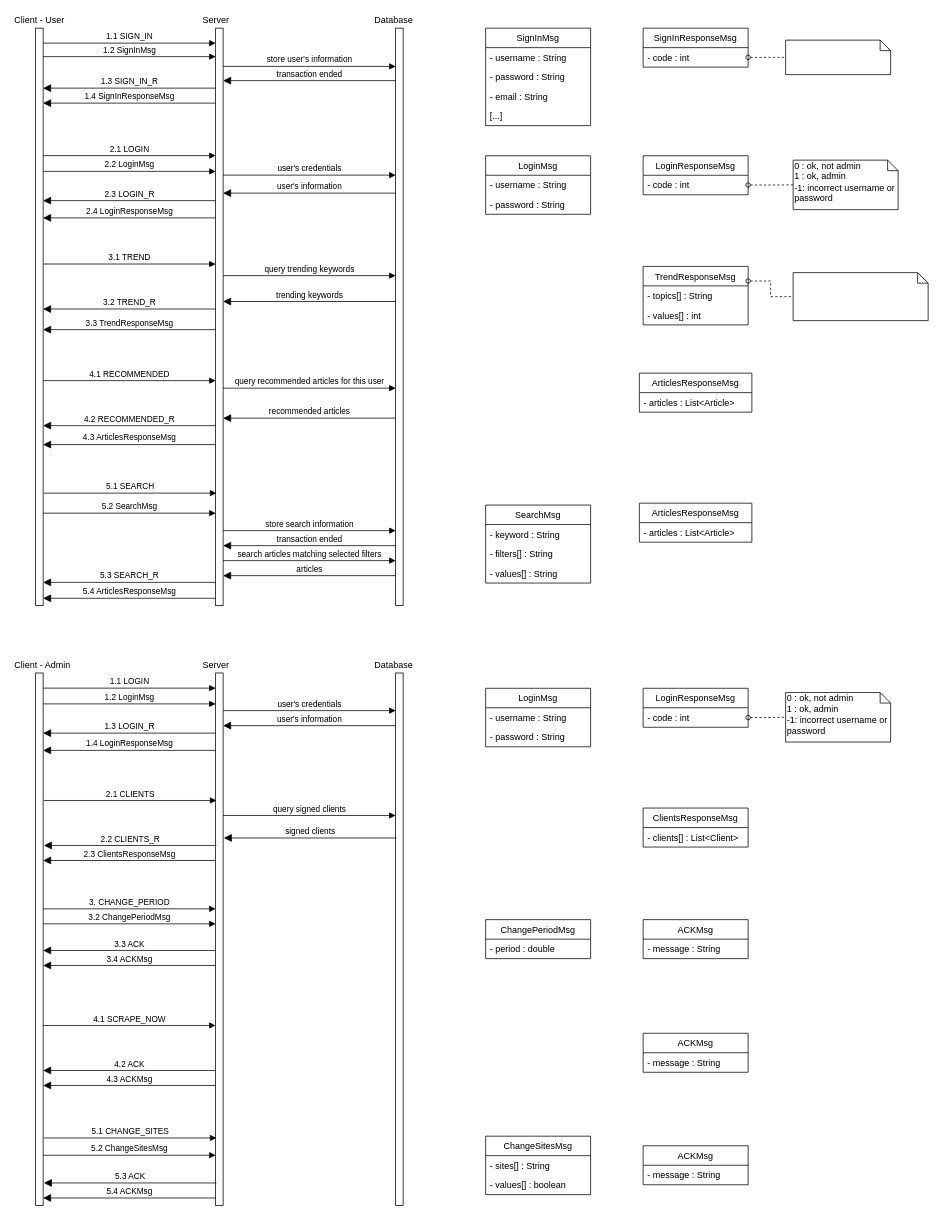
The diagram is 941 pixels wide and 1219 high, and some of its shapes have lost their labels. Here are the shapes that lost their labels. From the top down, the centre of each, then its label:
At point 838,57: "0 : ok, not admin -1: username already in the db".
At point 860,296: "For each trending keyword, its frequency is sent to build the chart".
